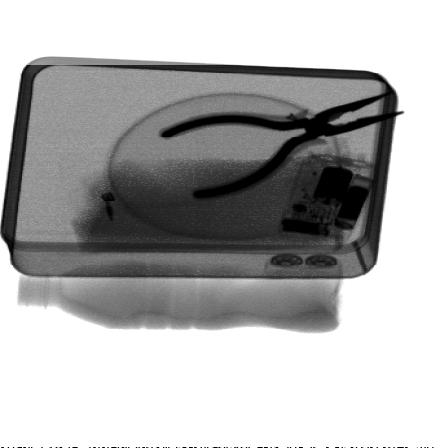Pliers: (155, 89, 408, 202)
